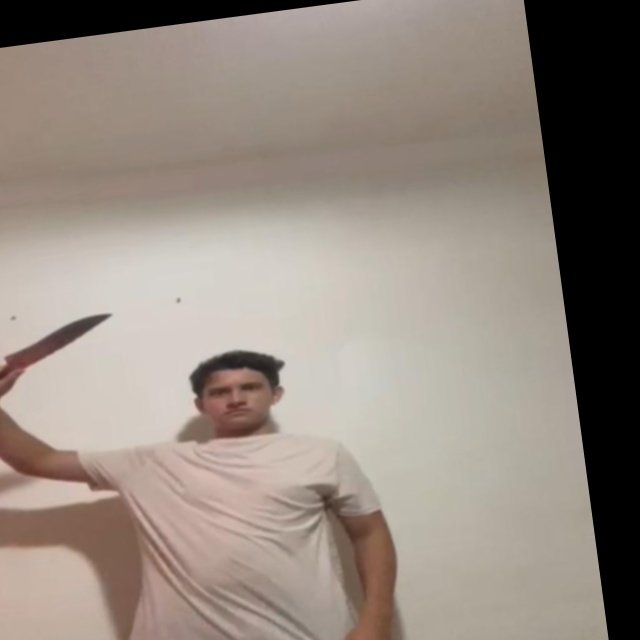Sharp-Object: (6, 313, 111, 363)
